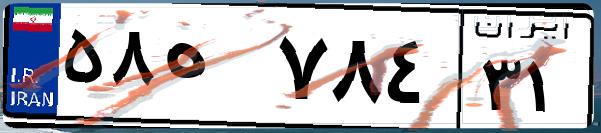1: (525, 38, 570, 115)
3: (475, 38, 525, 113)
4: (385, 28, 445, 110)
5: (57, 26, 110, 100)
7: (270, 28, 330, 110)
8: (330, 28, 385, 110), (110, 28, 158, 98)
ه: (158, 20, 270, 120)
